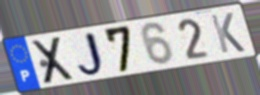2: (176, 17, 212, 62)
6: (139, 20, 178, 68)
7: (101, 24, 134, 75)
J: (75, 29, 109, 78)
K: (208, 11, 247, 55)
X: (30, 34, 77, 87)
